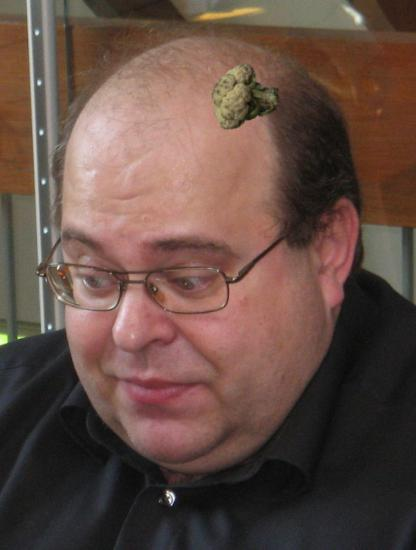Cauliflower: (211, 61, 281, 131)
